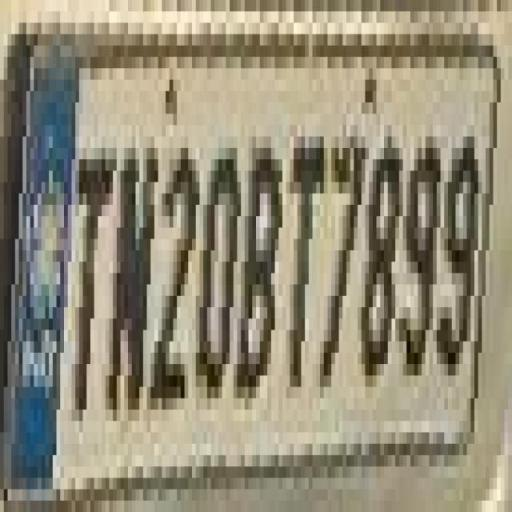number plate: (0, 46, 486, 455)
